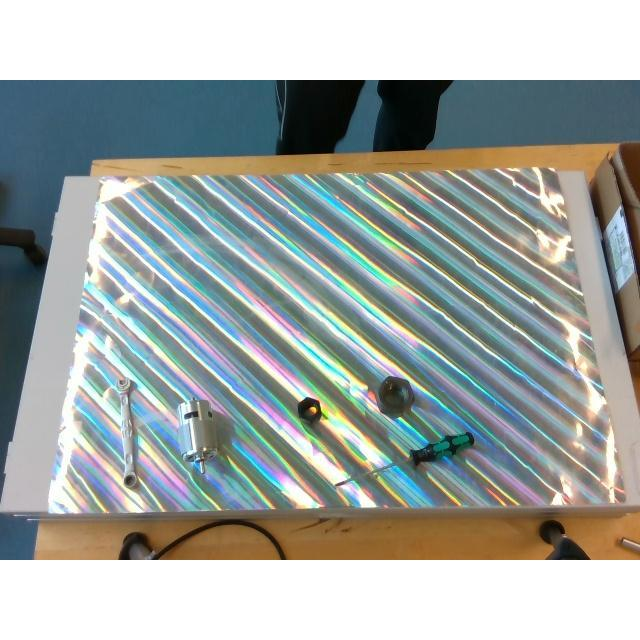M20: (298, 398, 322, 427)
M30: (378, 376, 414, 418)
Motor2: (178, 398, 218, 474)
Screwdriver: (334, 432, 474, 488)
Wrench: (116, 377, 138, 488)
